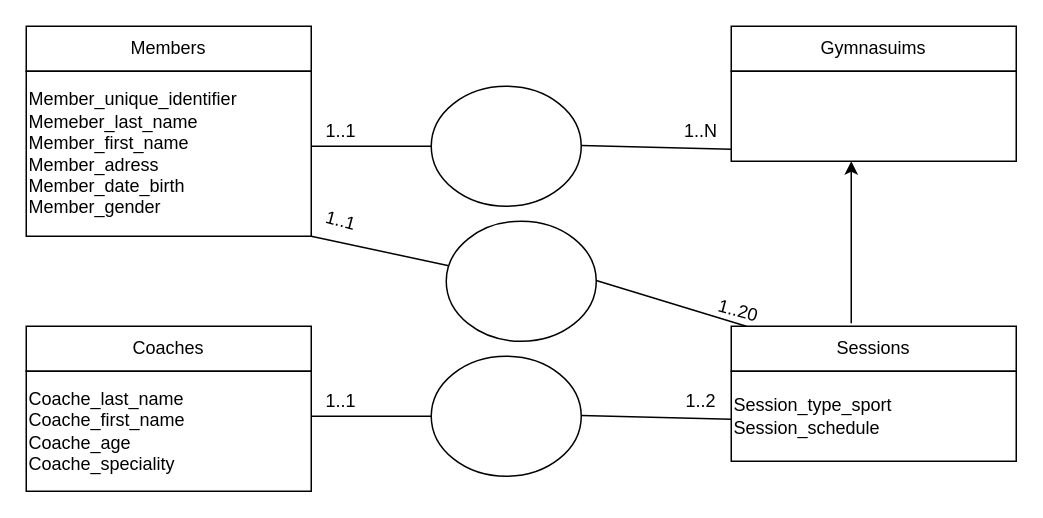
The diagram is 1043 pixels wide and 518 high, and some of its shapes have lost their labels. Each missing label, with the box of its shape:
be accommodated: (445, 220, 596, 341)
Gymnasium_name Gymnasium_adress Gymnasium_number: (730, 70, 1016, 161)
regiter: (430, 85, 581, 206)
works_for: (430, 355, 581, 476)
